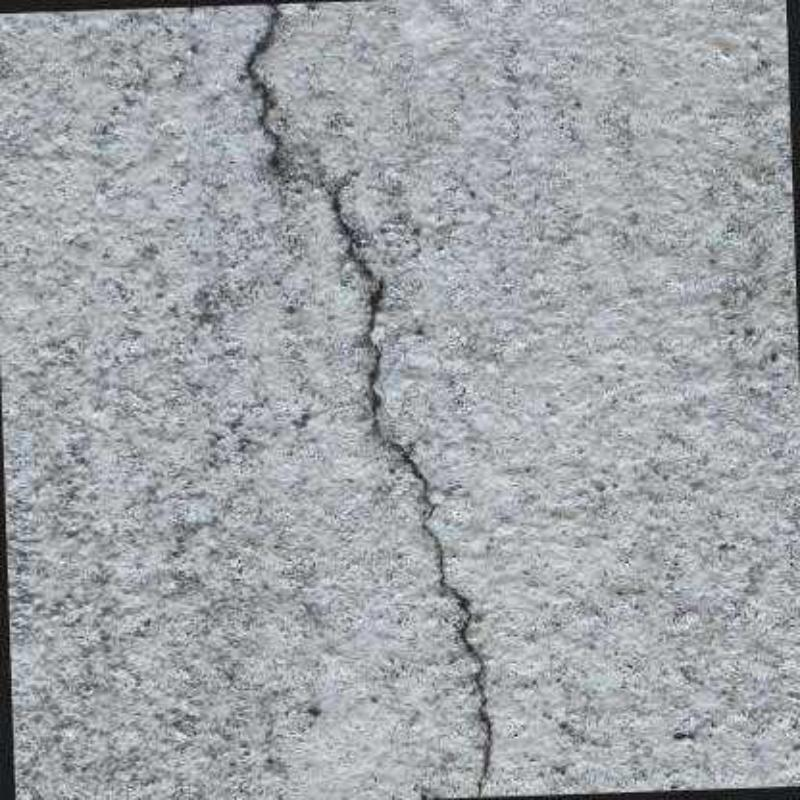pothole: (244, 4, 489, 798)
